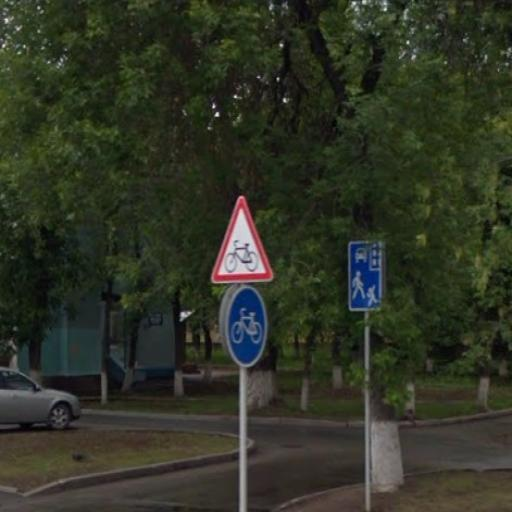traffic_sign: (210, 195, 278, 285), (225, 284, 271, 371), (345, 238, 387, 314)
